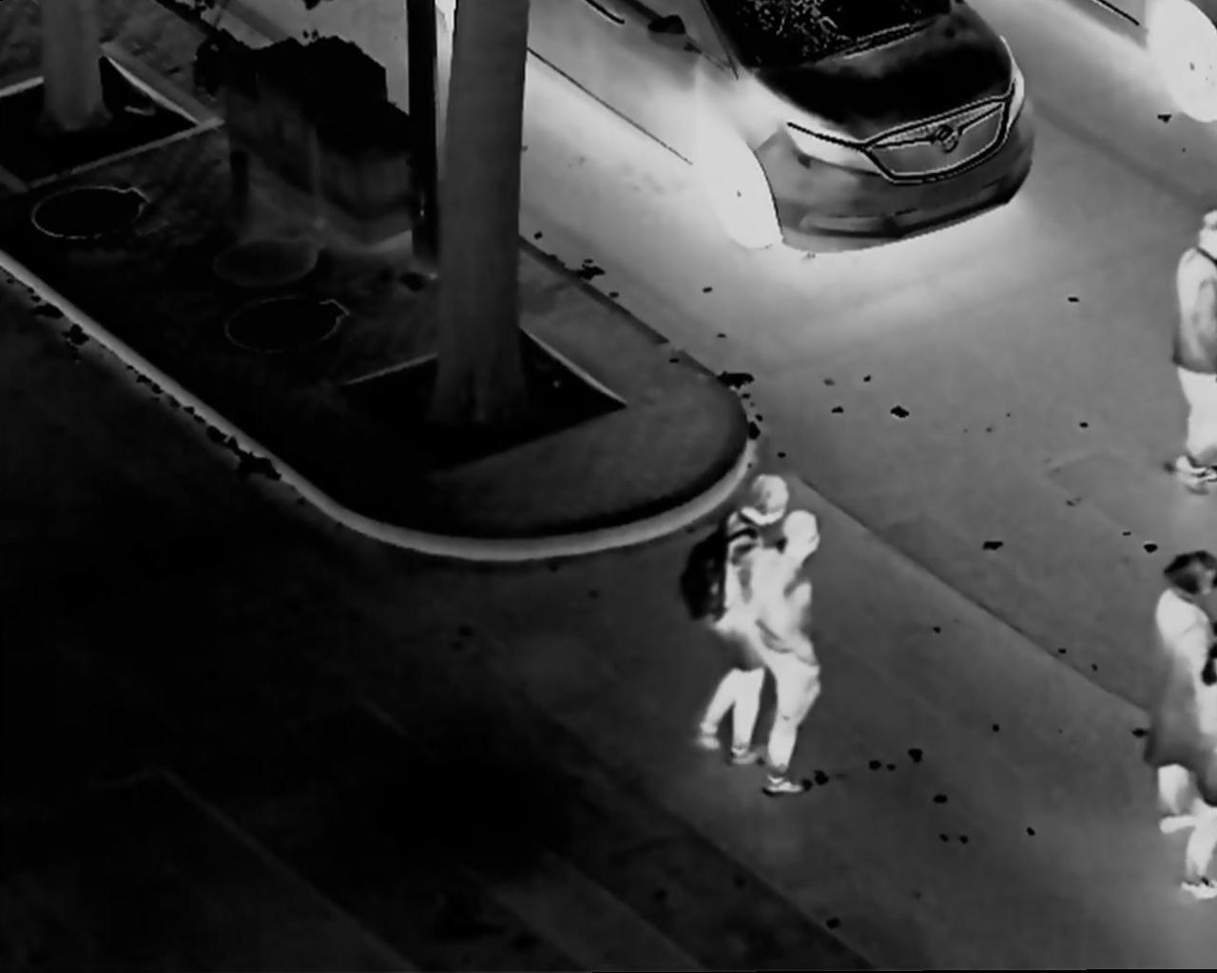person: (673, 471, 789, 764), (747, 507, 833, 795), (1139, 551, 1207, 828), (1168, 200, 1217, 475)
